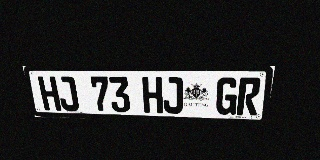3: (108, 77, 130, 112)
7: (89, 77, 112, 112)
G: (215, 77, 239, 115)
H: (37, 76, 62, 111), (142, 77, 163, 113)
J: (56, 76, 80, 111), (163, 77, 183, 114)
R: (236, 77, 262, 115)
